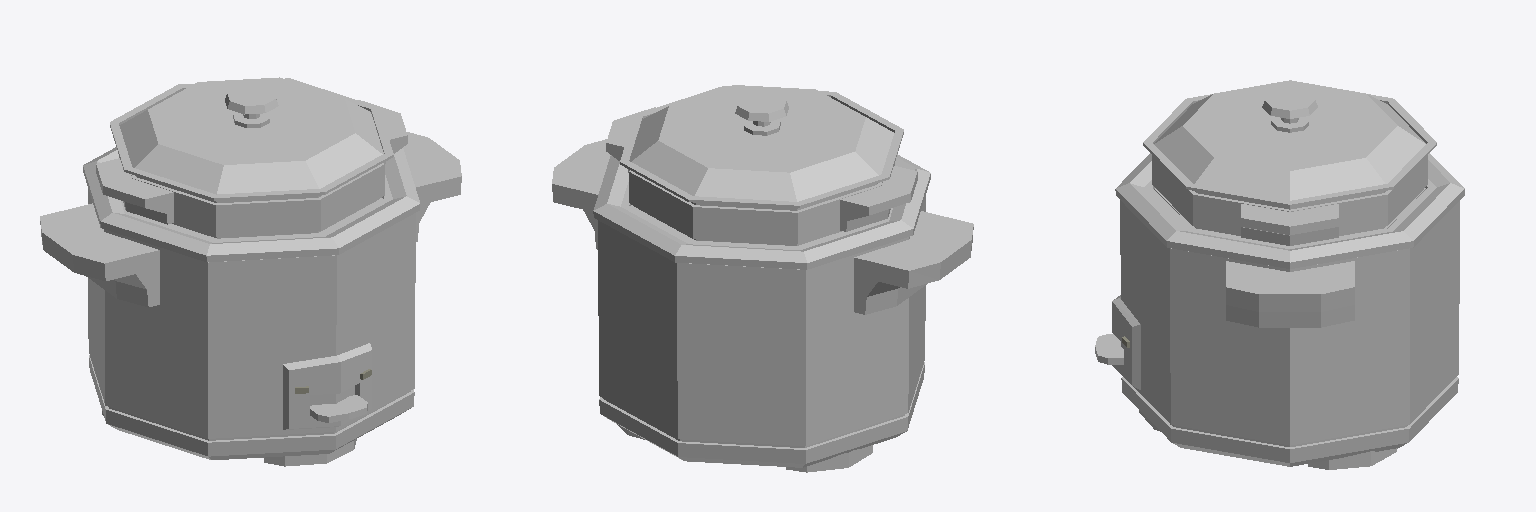
The model's file is appliance_rice_cooker.obj.
The picture shows the model from 3 angles: view 1: azimuth 30°, elevation 25°; view 2: azimuth 150°, elevation 25°; view 3: azimuth 270°, elevation 25°; orthographic projection.
Parts seen in each view (by area): view 1: appliance_rice_cooker_Cylinder.136, appliance_rice_cooker_lid_Cylinder.144, appliance_rice_cooker_strainer_Cylinder.143, appliance_rice_cooker_pot_Cylinder.146, appliance_rice_cooker_switch_Cylinder.147; view 2: appliance_rice_cooker_Cylinder.136, appliance_rice_cooker_lid_Cylinder.144, appliance_rice_cooker_strainer_Cylinder.143, appliance_rice_cooker_pot_Cylinder.146; view 3: appliance_rice_cooker_Cylinder.136, appliance_rice_cooker_lid_Cylinder.144, appliance_rice_cooker_pot_Cylinder.146, appliance_rice_cooker_strainer_Cylinder.143, appliance_rice_cooker_switch_Cylinder.147.
Boxes of the visible parts, x1=… form: appliance_rice_cooker_Cylinder.136: x1=40, y1=132, x2=461, y2=466; appliance_rice_cooker_lid_Cylinder.144: x1=110, y1=77, x2=393, y2=200; appliance_rice_cooker_strainer_Cylinder.143: x1=96, y1=100, x2=407, y2=238; appliance_rice_cooker_pot_Cylinder.146: x1=83, y1=147, x2=419, y2=261; appliance_rice_cooker_switch_Cylinder.147: x1=310, y1=395, x2=367, y2=422; appliance_rice_cooker_Cylinder.136: x1=552, y1=139, x2=973, y2=472; appliance_rice_cooker_lid_Cylinder.144: x1=620, y1=85, x2=903, y2=207; appliance_rice_cooker_strainer_Cylinder.143: x1=606, y1=107, x2=917, y2=246; appliance_rice_cooker_pot_Cylinder.146: x1=593, y1=154, x2=930, y2=269; appliance_rice_cooker_Cylinder.136: x1=1112, y1=200, x2=1459, y2=469; appliance_rice_cooker_lid_Cylinder.144: x1=1143, y1=80, x2=1436, y2=206; appliance_rice_cooker_pot_Cylinder.146: x1=1115, y1=153, x2=1464, y2=268; appliance_rice_cooker_strainer_Cylinder.143: x1=1152, y1=155, x2=1427, y2=245; appliance_rice_cooker_switch_Cylinder.147: x1=1095, y1=334, x2=1123, y2=364.
Bounding box in the file's own units: 10.19 × 7.86 × 8.43.